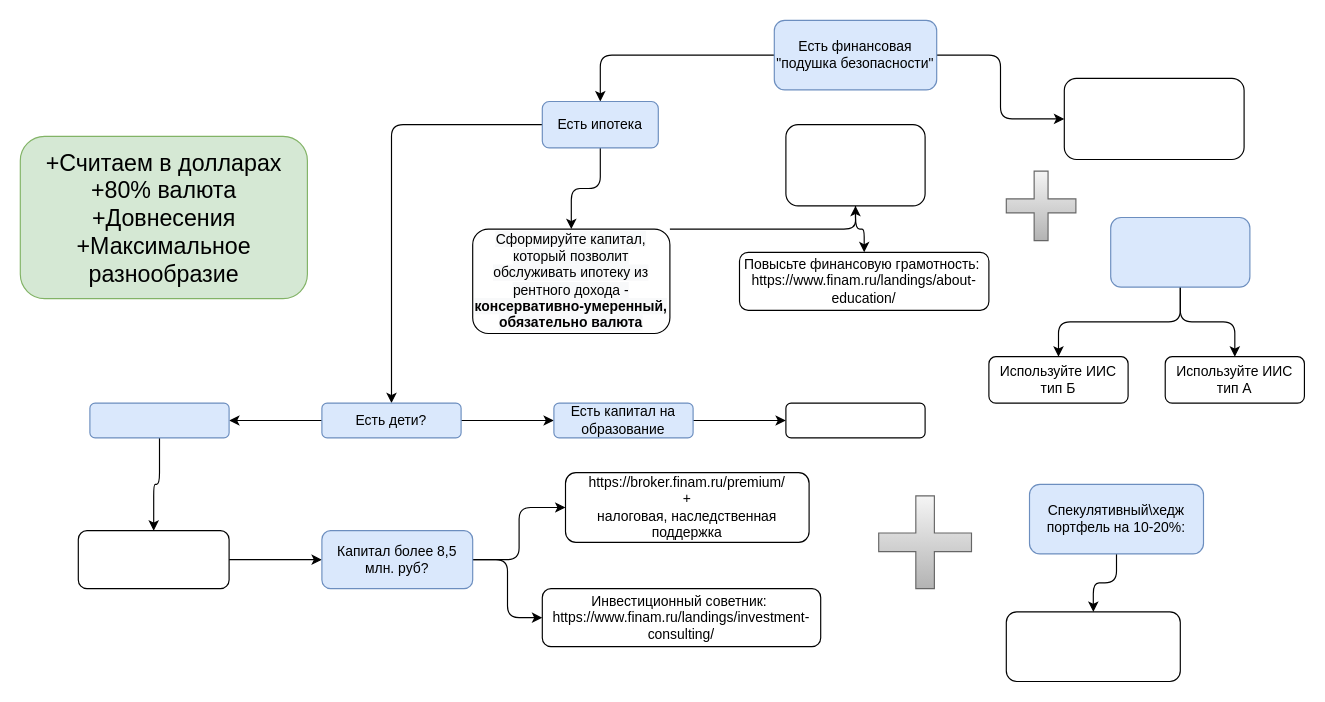
Image size: 1325x702. Some labels were removed from this diagram. Here are the shapes that lost their labels. From the top down, the box of each, then its label:
(1063, 77, 1244, 160): Сформируйте подушку на 3-6 месяцев - Накопительная на 1-3 года
(785, 124, 925, 206): Рантье Еврооблигационная Дивидендная Гибридная
(1110, 216, 1250, 287): Есть доход, облагаемый НДФЛ?
(89, 402, 229, 438): Верите в пенсию?
(785, 402, 925, 438): Портфель на 5-15 лет - умеренный
(77, 530, 229, 589): Формируем пенсионный портфель - умеренный
(1005, 611, 1180, 682): Демарко Трендо-флетовая ИИП Ва-банк Биохимия\фармацевтика
